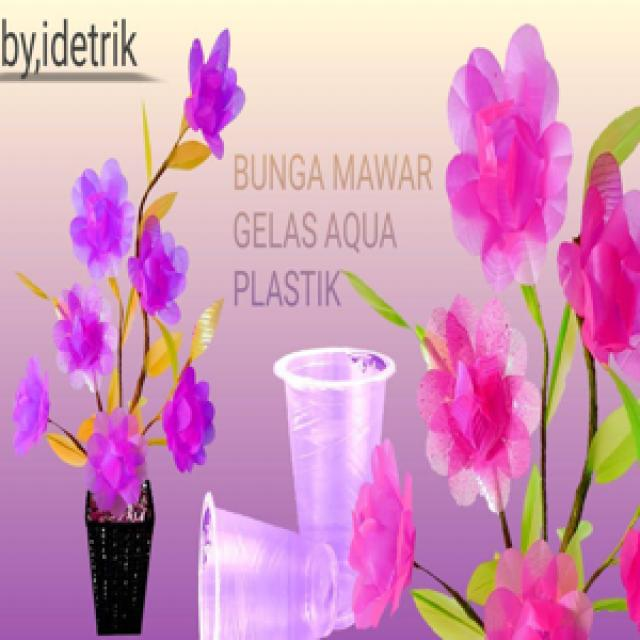plastic cup: (267, 341, 399, 636), (190, 486, 343, 640)
